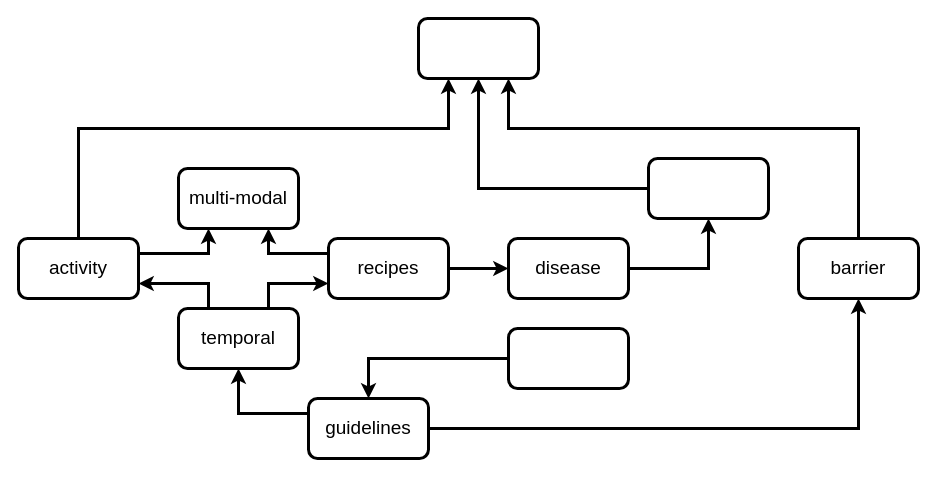
The diagram is 937 pixels wide and 477 high, and some of its shapes have lost their labels. Here are the shapes that lost their labels. From the top down, the box of each, then its label:
(416, 16, 540, 80): core
(646, 156, 770, 220): food
(506, 326, 630, 390): user
